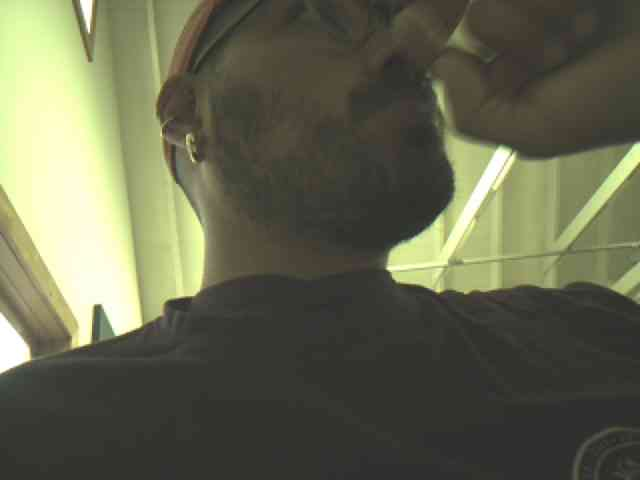person: (0, 0, 640, 480)
